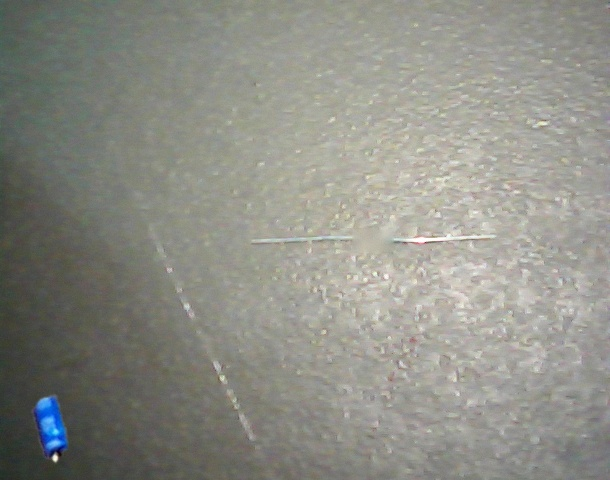capacitor: (32, 395, 68, 462)
